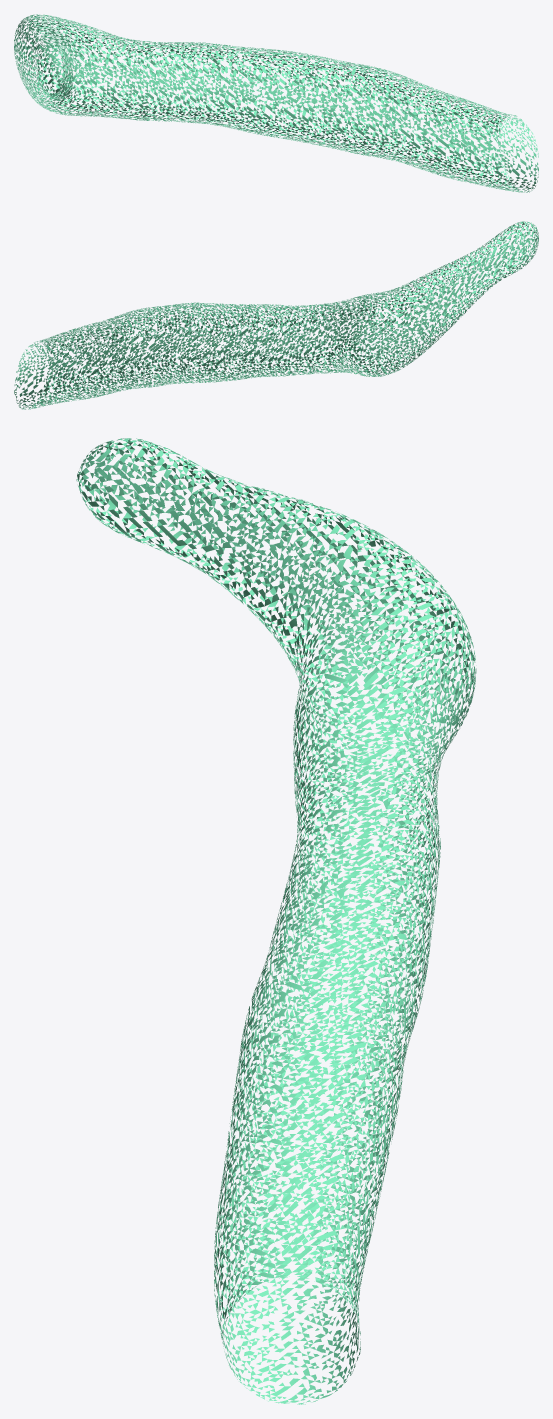
File: healthy.glb
3 views of the same model, one above another, from view 1: azimuth 30°, elevation 25°; view 2: azimuth 150°, elevation 25°; view 3: azimuth 270°, elevation 25° (orthographic). The views are drawn at different scales.
Size of the model in its own units: 119 by 65.22 by 44.76.
